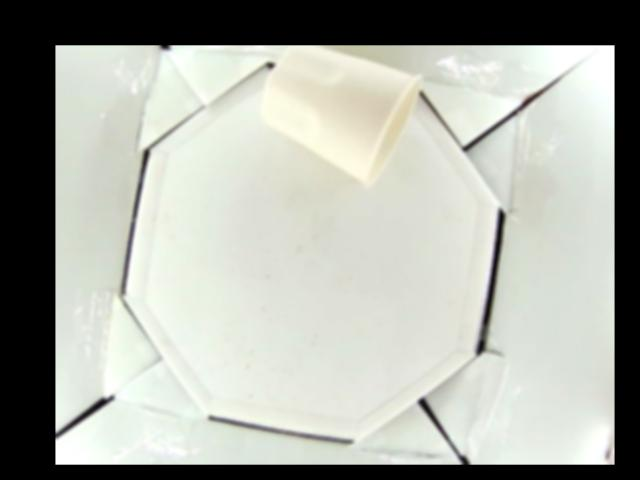Cup: (258, 46, 424, 185)
